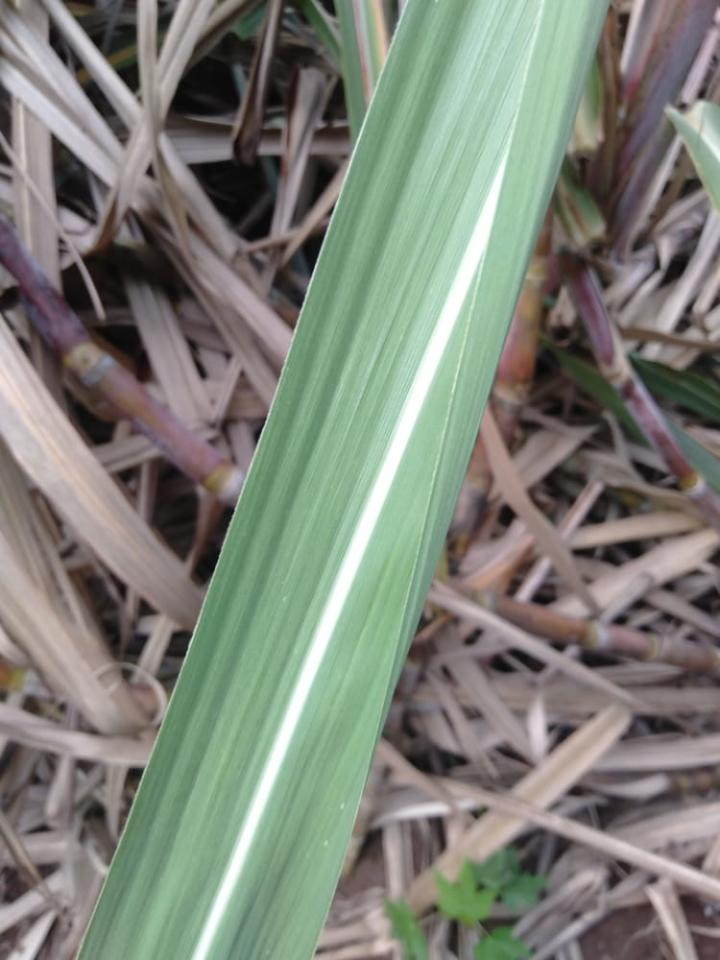Healthy: (75, 0, 613, 959)
RedRot: (353, 0, 369, 98), (567, 198, 590, 239)
Yellow: (366, 0, 386, 79)
